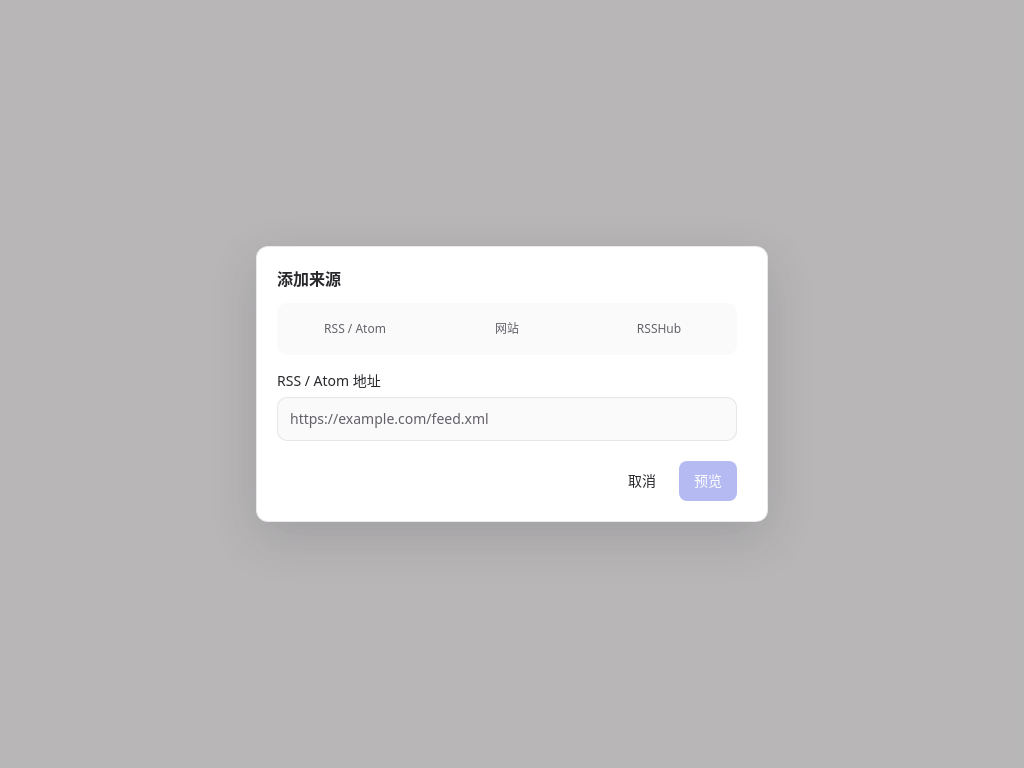
Test case: AddSourceDialog — 预览 › 普通网页 URL：本地诚实提示（不发预览请求，不做自动发现）
This screenshot has width=1024, height=768.
Type "example.com" into the field labelled "RSS / Atom 地址" at {"x": 507, "y": 419}, box [277,397,737,441]
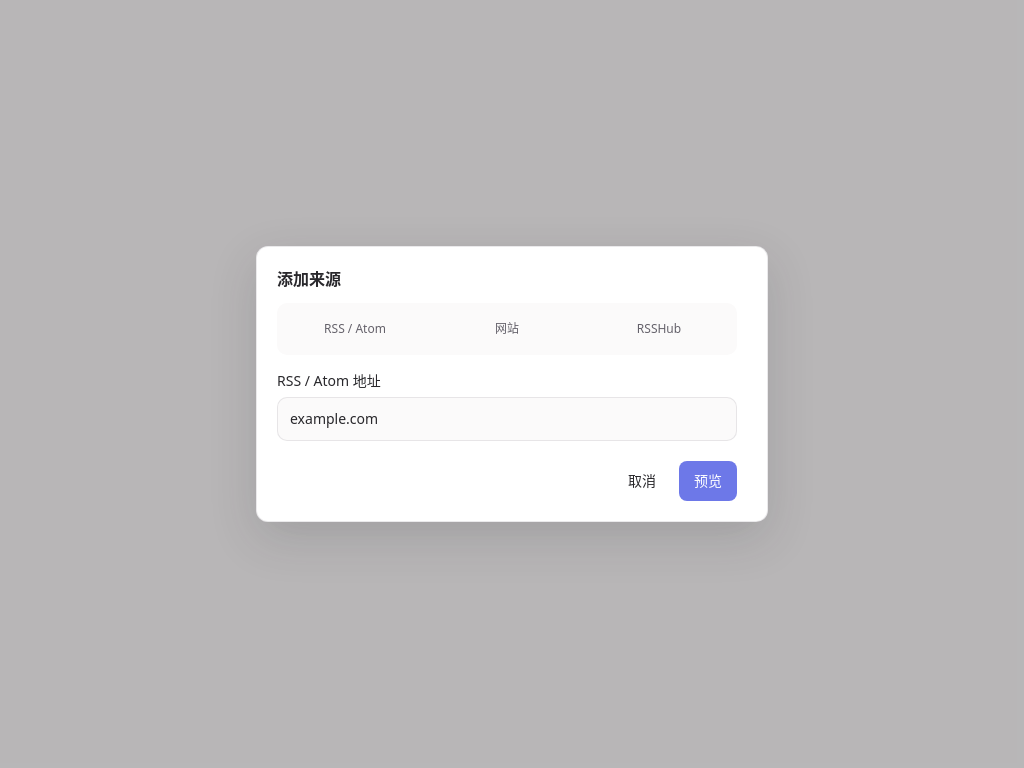
Click the button "预览" at {"x": 708, "y": 481}, box [679,461,737,501]
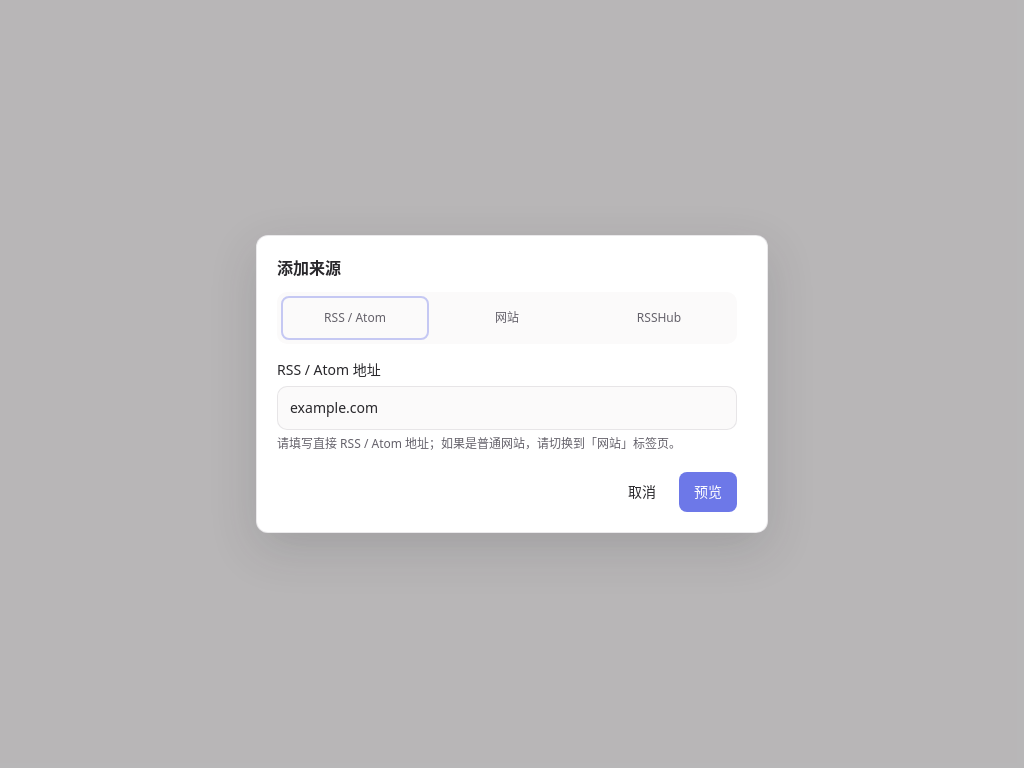
expect the text "请填写直接 RSS / Atom 地址；如果是普通网站，请切换到「网站」标签页。" is shown: met, box [277,436,737,452]
